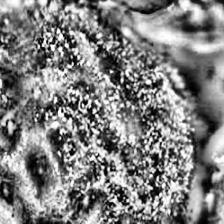Gray Mold: (0, 0, 199, 224)
